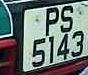1: (46, 36, 57, 66)
3: (70, 30, 84, 58)
4: (57, 34, 70, 61)
5: (31, 38, 47, 68)
P: (43, 7, 61, 37)
S: (59, 5, 76, 34)
